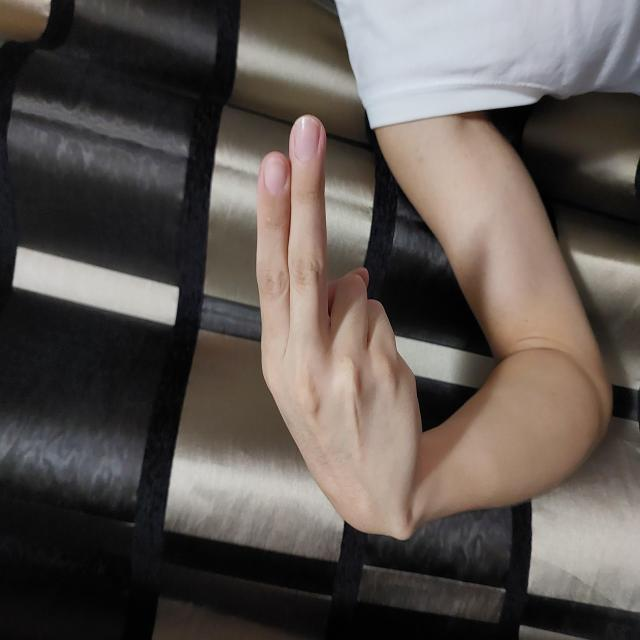H: (99, 251, 528, 424)
